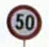limite 50: (5, 3, 42, 40)
